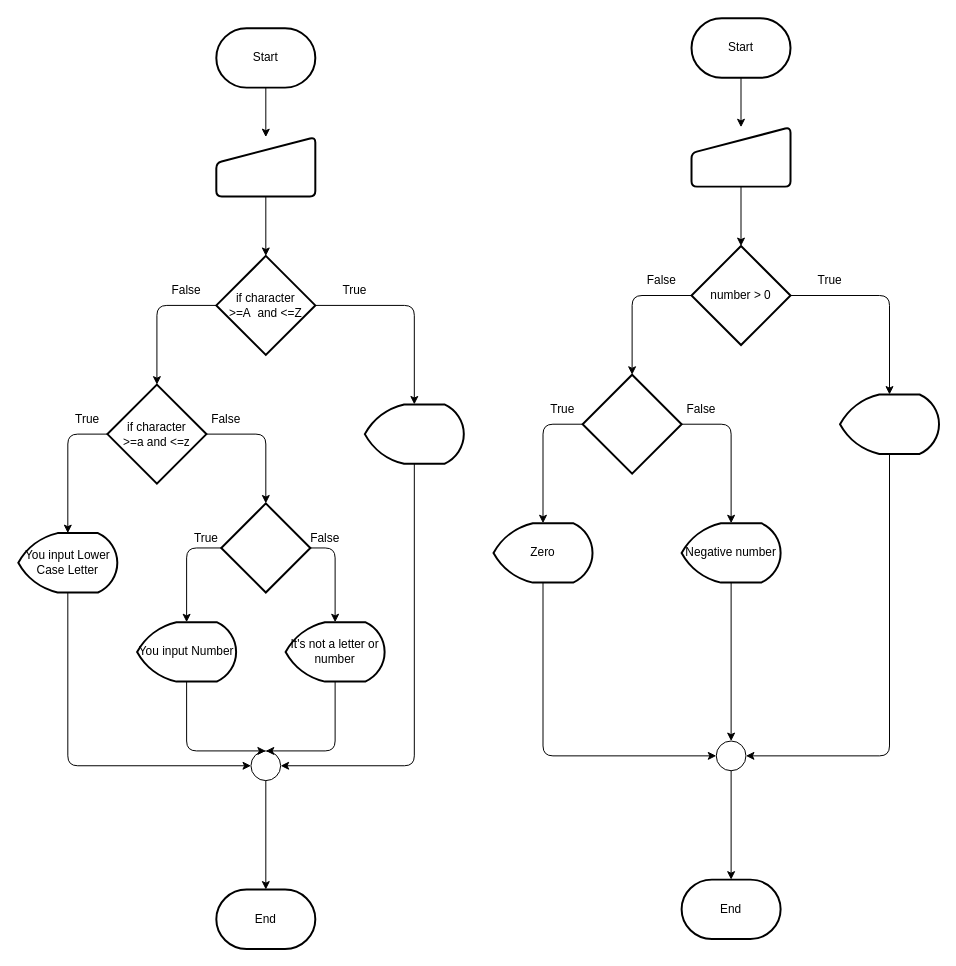
Image size: 956x966. Some labels were removed from this diagram. The centre of each missing label's shape, as x and y in pixels:
"character" belongs at point 265,166.
"if character >=0 and <=9" belongs at point 265,547.
"num == 0" belongs at point 631,423.
"number" belongs at point 740,156.
"Positive number" belongs at point 889,423.
"You input Upper Case Letter" belongs at point 413,433.
